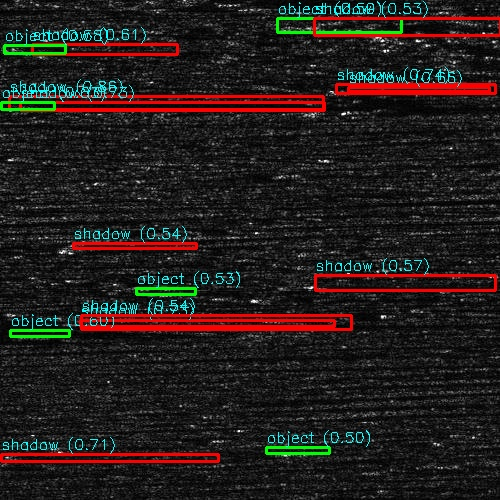rock: (145, 289, 208, 294)
shadow: (0, 94, 378, 109), (177, 289, 258, 294)
